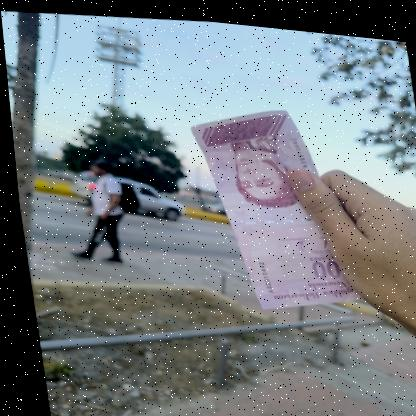one_hundred-front-vef: (184, 92, 359, 315)
